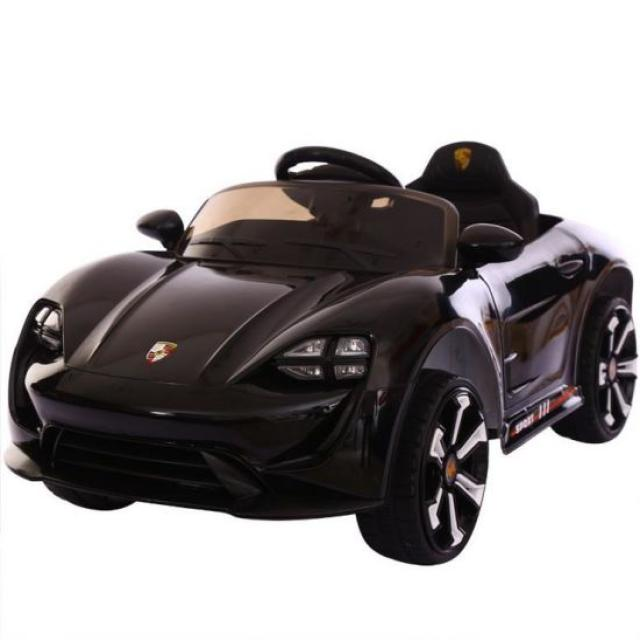Car: (3, 139, 639, 566)
